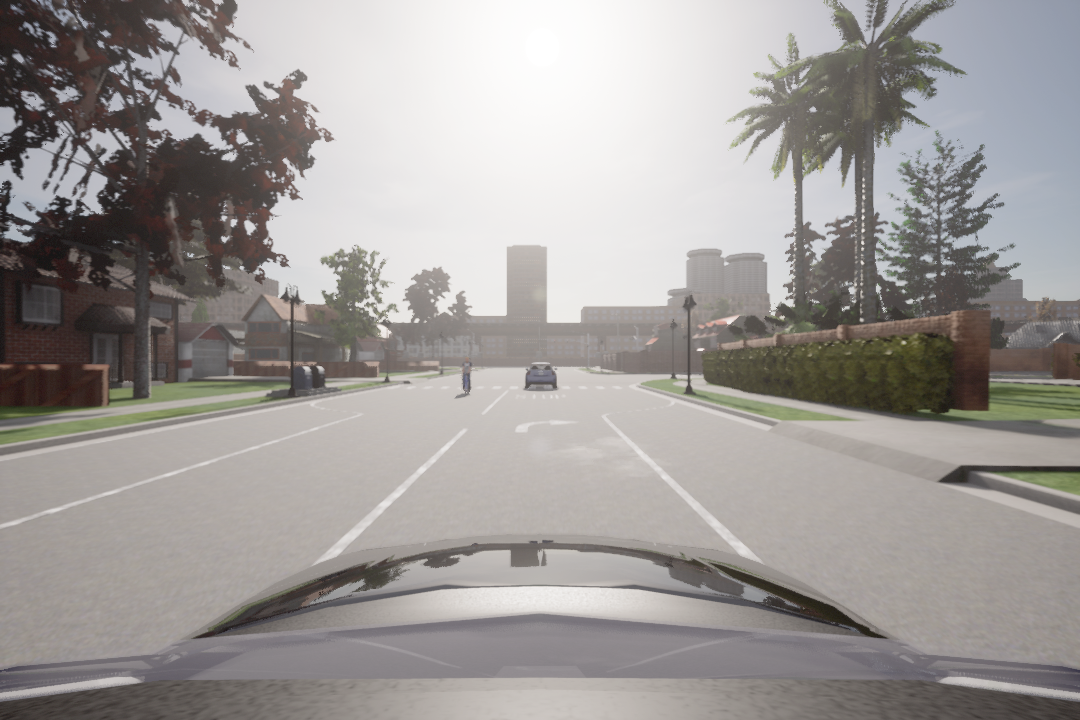RoadSign_right: (509, 416, 581, 437)
